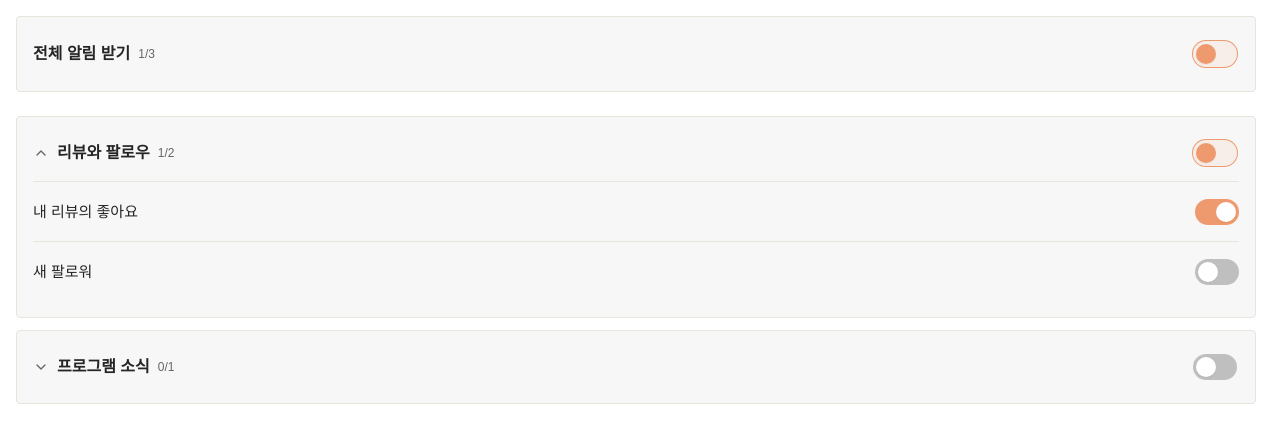
Test: 알림 수신 설정 › 전체 토글은 해당 항목을 한 요청으로 바로 저장한다
Expected: the text "프로그램 소식" is shown, 57,357 -> 150,377
Expected: the text "1/3" is shown, 138,46 -> 155,62
Click the checkbox named "전체 알림 일괄 변경" at (1215, 54), box 1191,32 -> 1239,76
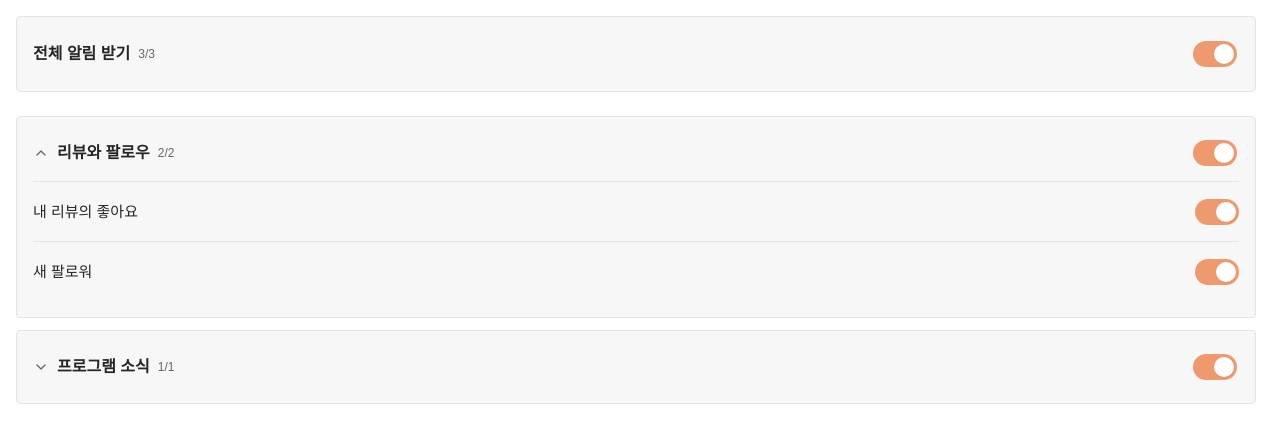
Expected: the text "3/3" is shown, 138,46 -> 155,62
